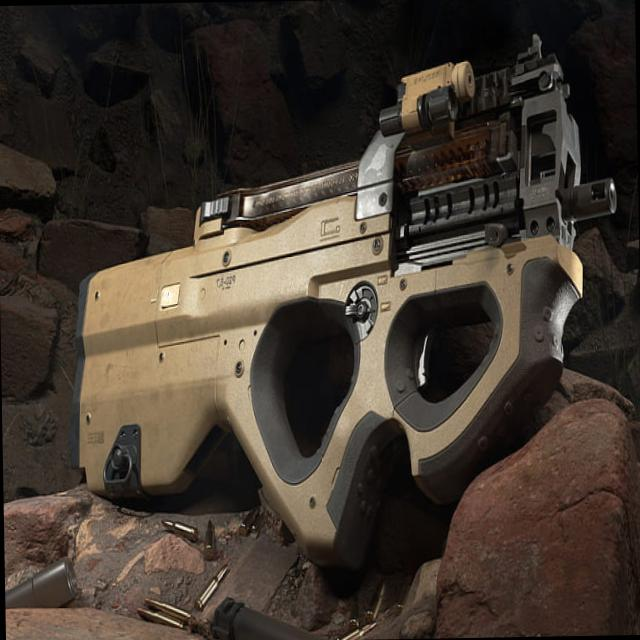Gun: (50, 19, 630, 552)
